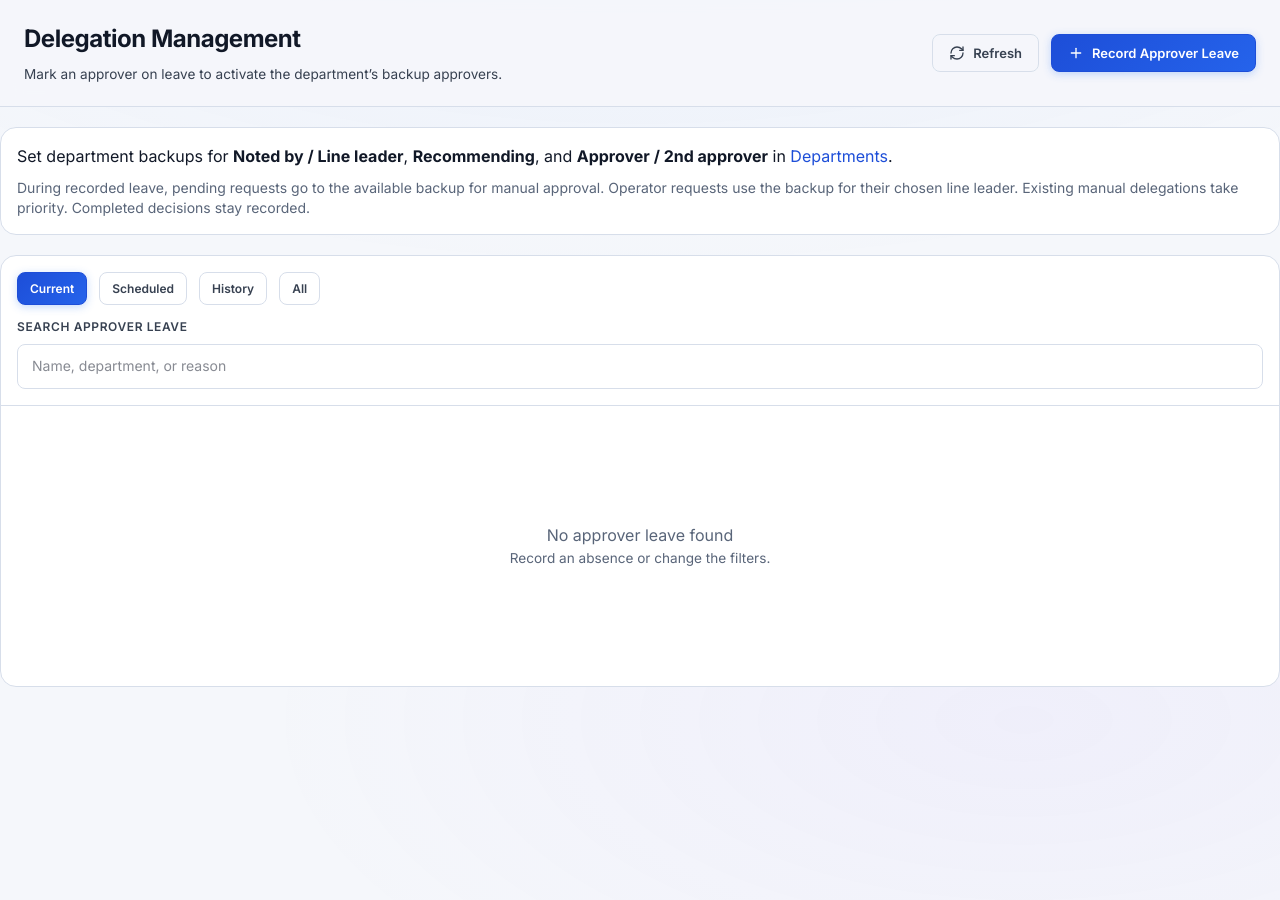
Test case: admin approver leave coverage › records who is on leave without selecting a manual delegate
Click the button "Record Approver Leave" at (1154, 53), box [1051,34,1256,72]
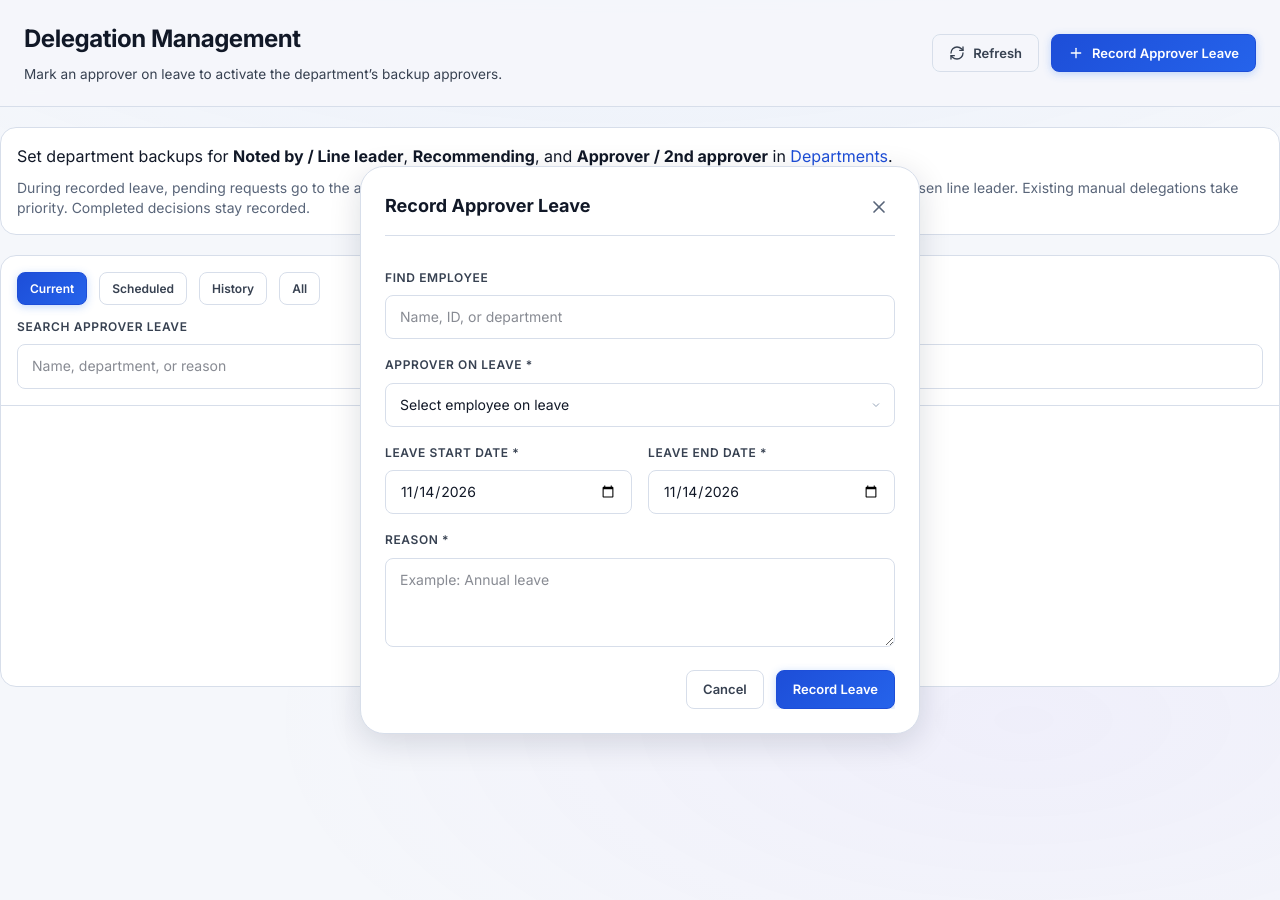
Type "LEAD-2" into the field labelled "Find employee" at (640, 317), box [385,295,895,339]
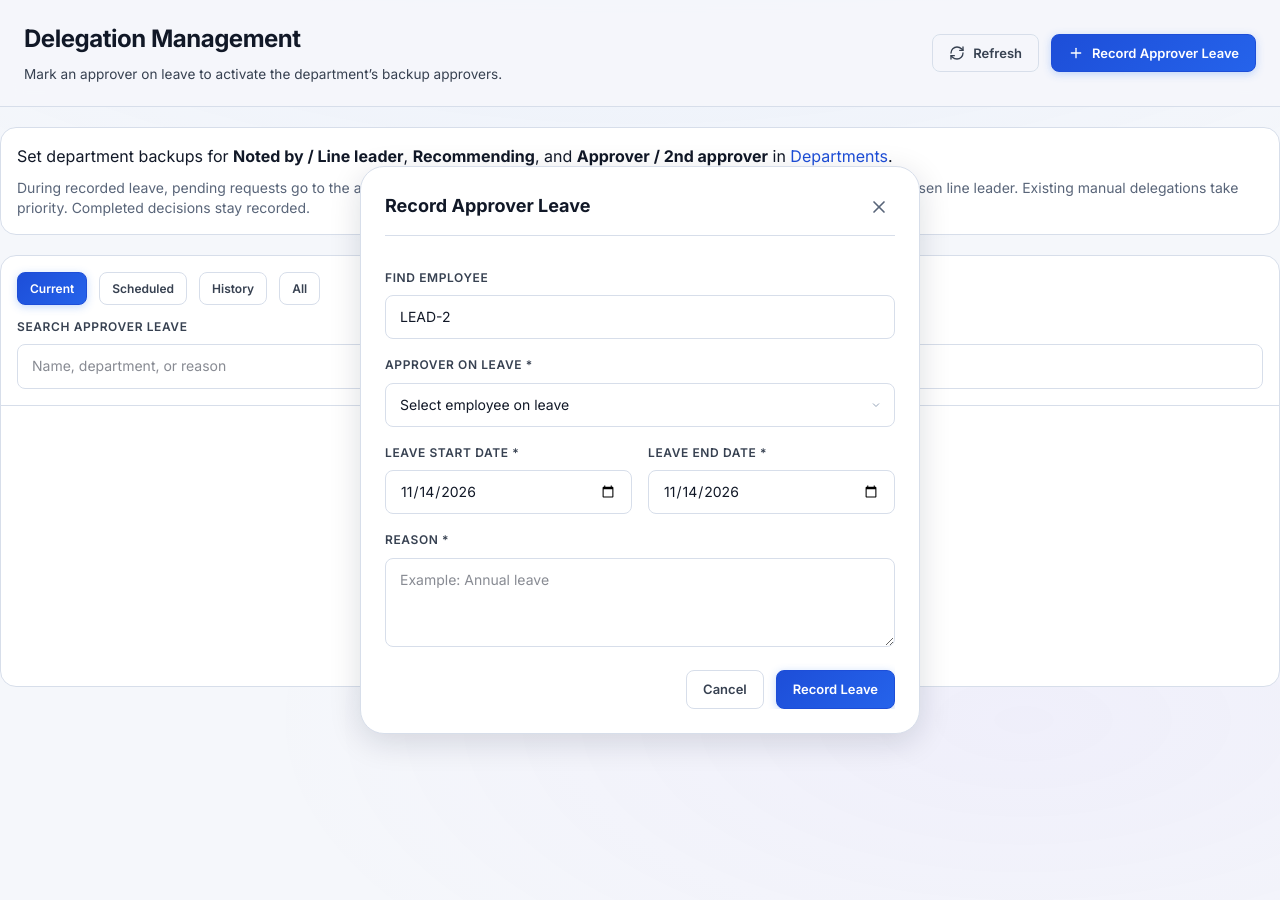
Select "Selected Line Leader · LEAD-2 (Production)" in the dropdown labelled "Approver on leave *" at (640, 405), box [385,382,895,427]
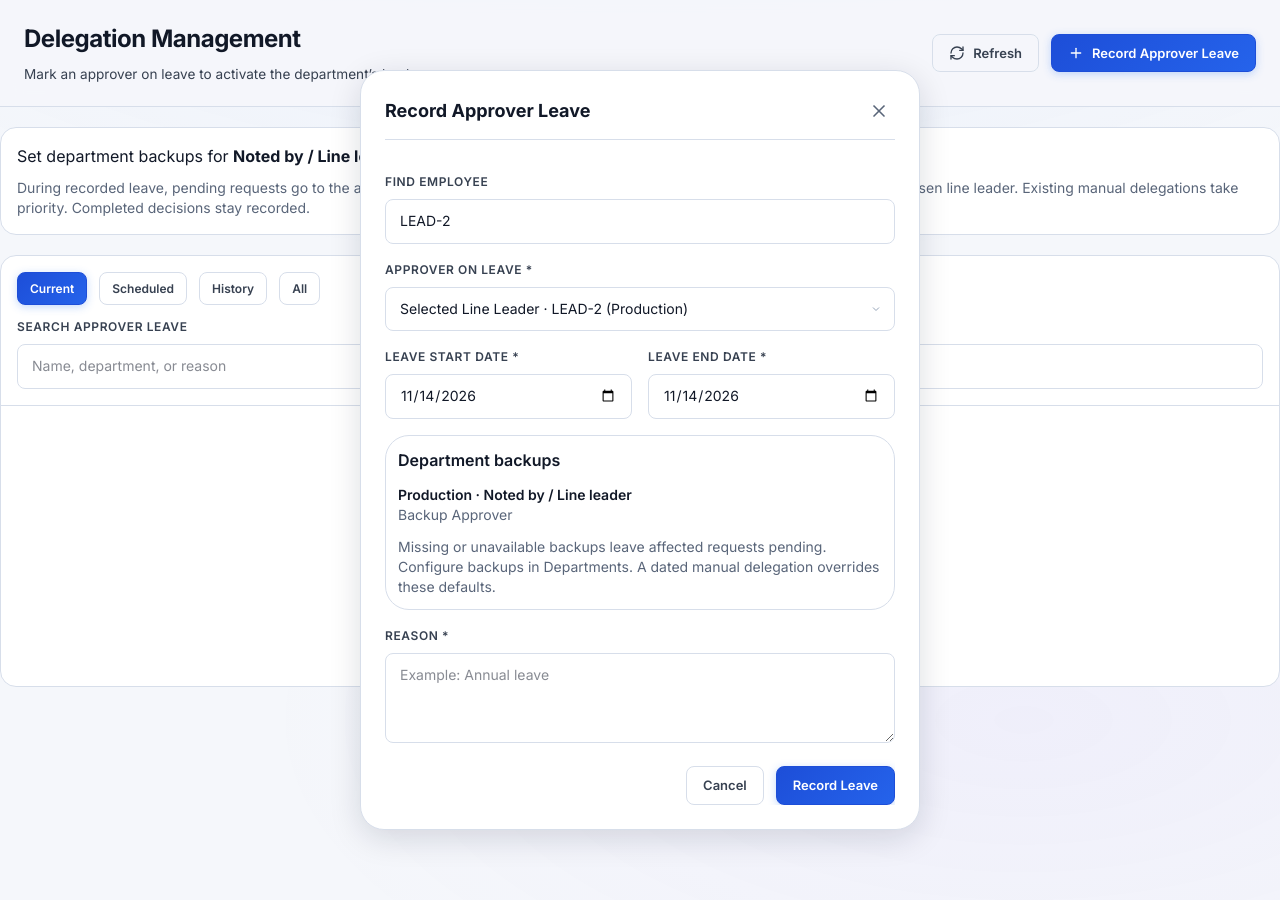
Now the text "Backup Approver" is shown, box [398,506,512,523]
Now the text "Production · Noted by / Line leader" is shown, box [398,486,632,503]
Type "  Annual leave  " into the text box labelled "Reason *" at (640, 698), box [385,654,895,743]
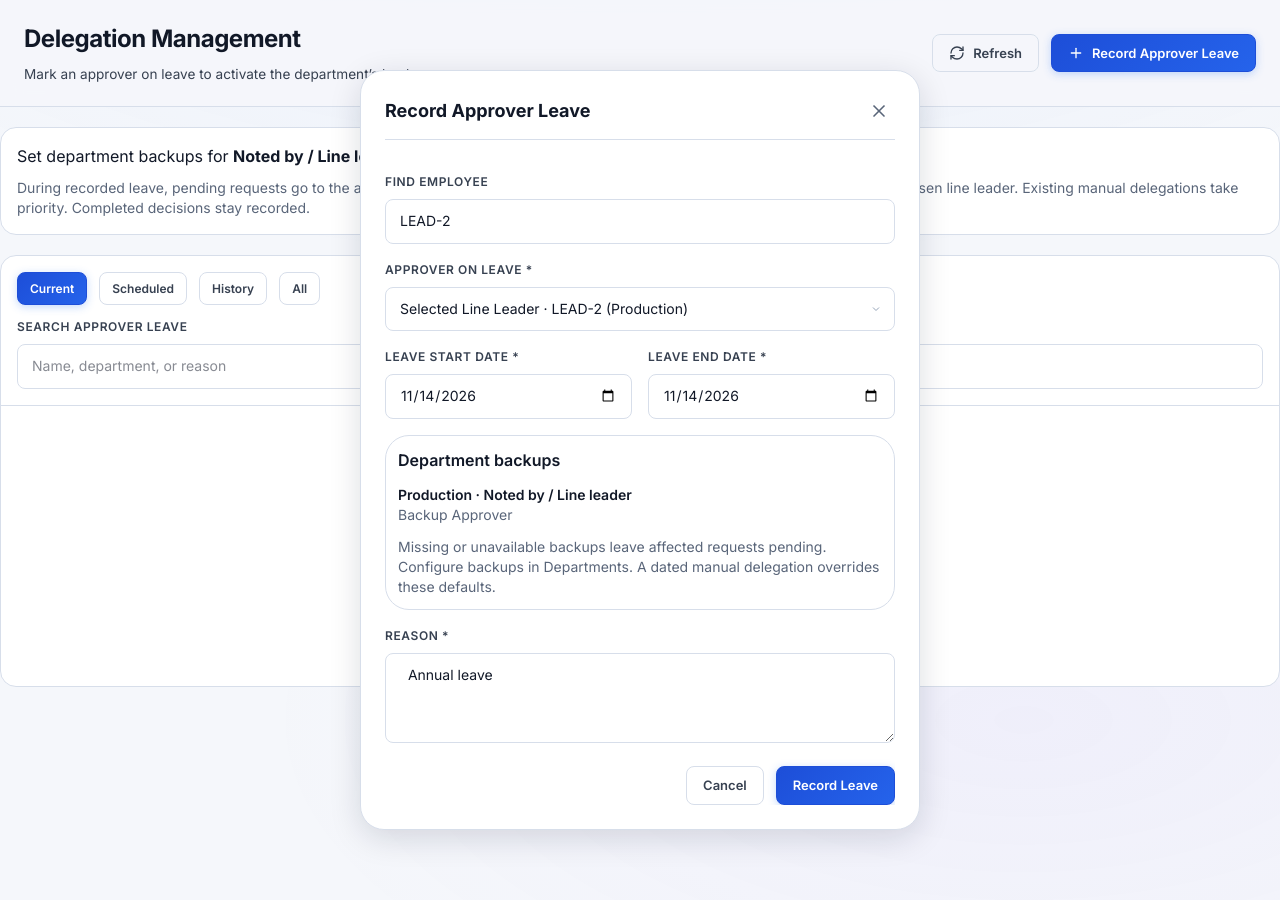
Click the button "Record Leave" at (835, 786), box [776,766,895,805]
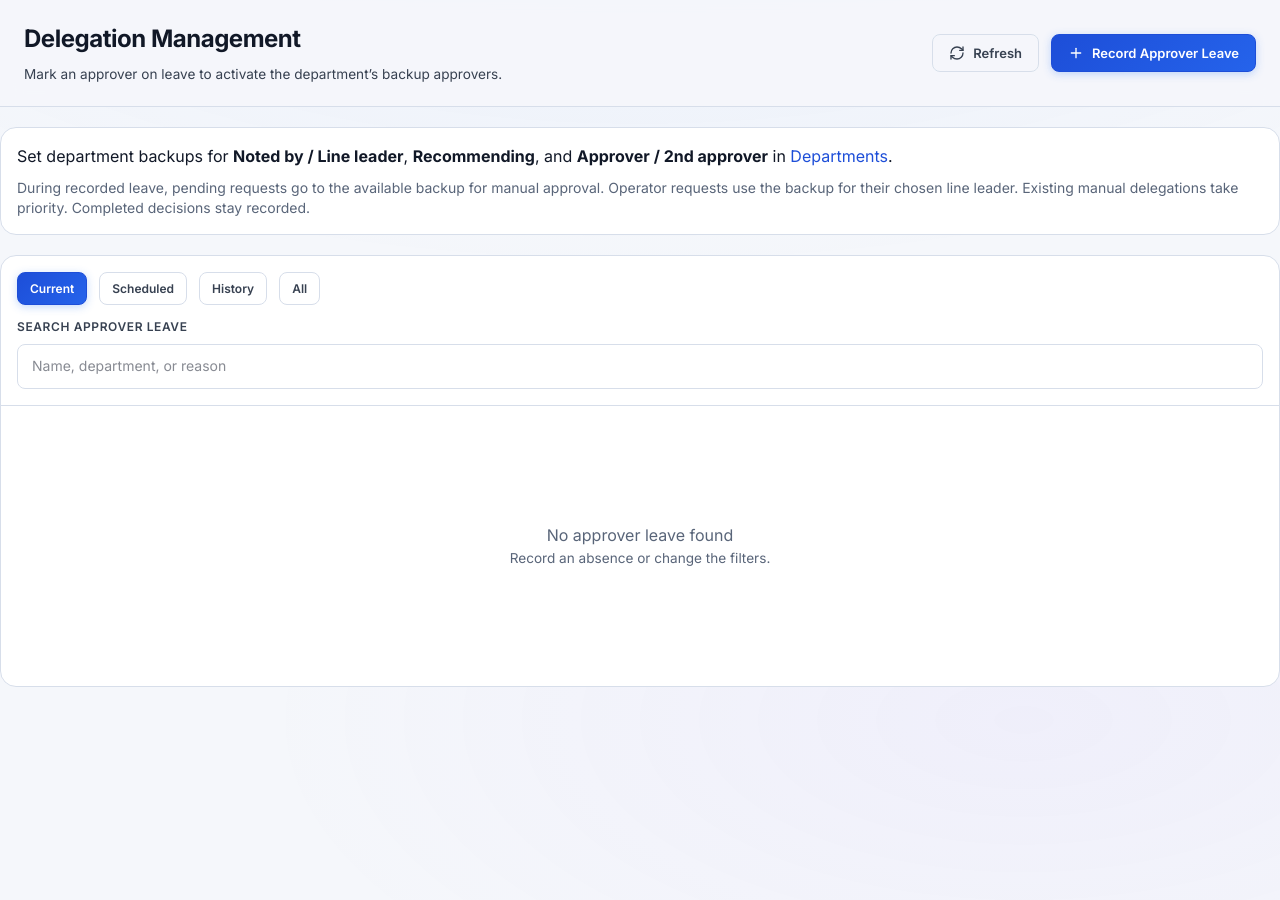
Now the dialog is gone
